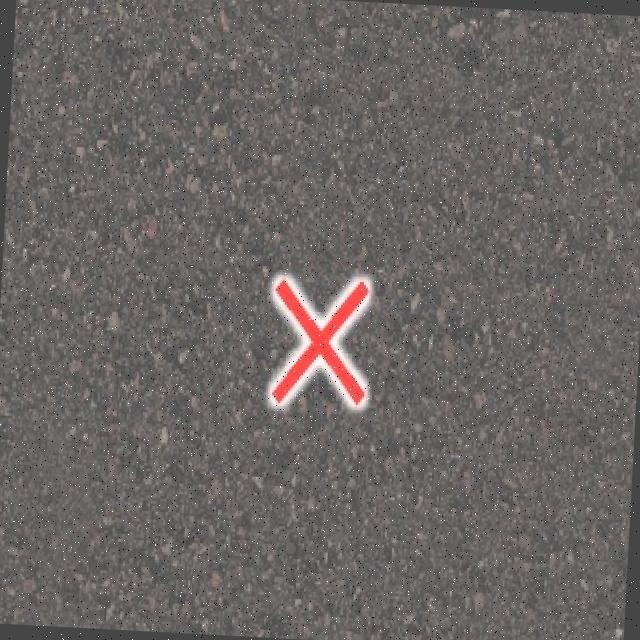x_marker: (269, 276, 369, 406)
